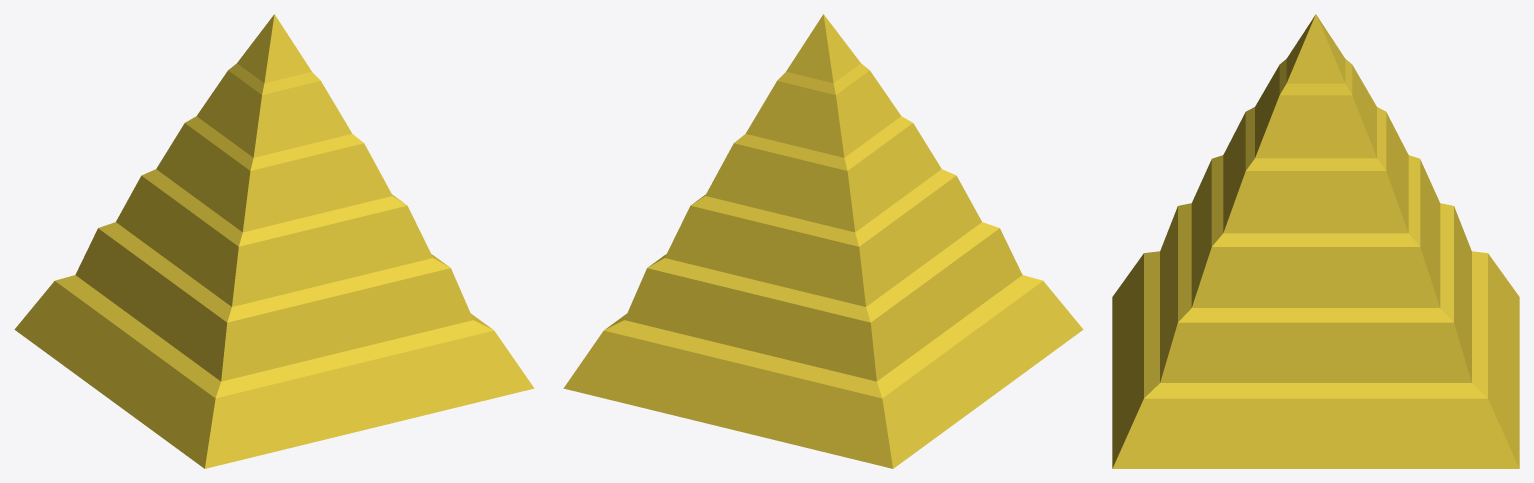
The picture shows the model from 3 angles, left to right: view 1: azimuth 30°, elevation 25°; view 2: azimuth 150°, elevation 25°; view 3: azimuth 270°, elevation 25°; orthographic projection. The views are drawn at different scales.
Visible parts, largest first — view 1: Cube.063; view 2: Cube.063; view 3: Cube.063.
Boxes of the visible parts, x1,y1,x2,y2 form: Cube.063: (14,14,534,468); Cube.063: (563,14,1083,468); Cube.063: (1112,14,1519,468).
Size of the model in its own units: 11.14 by 11.14 by 11.14.
